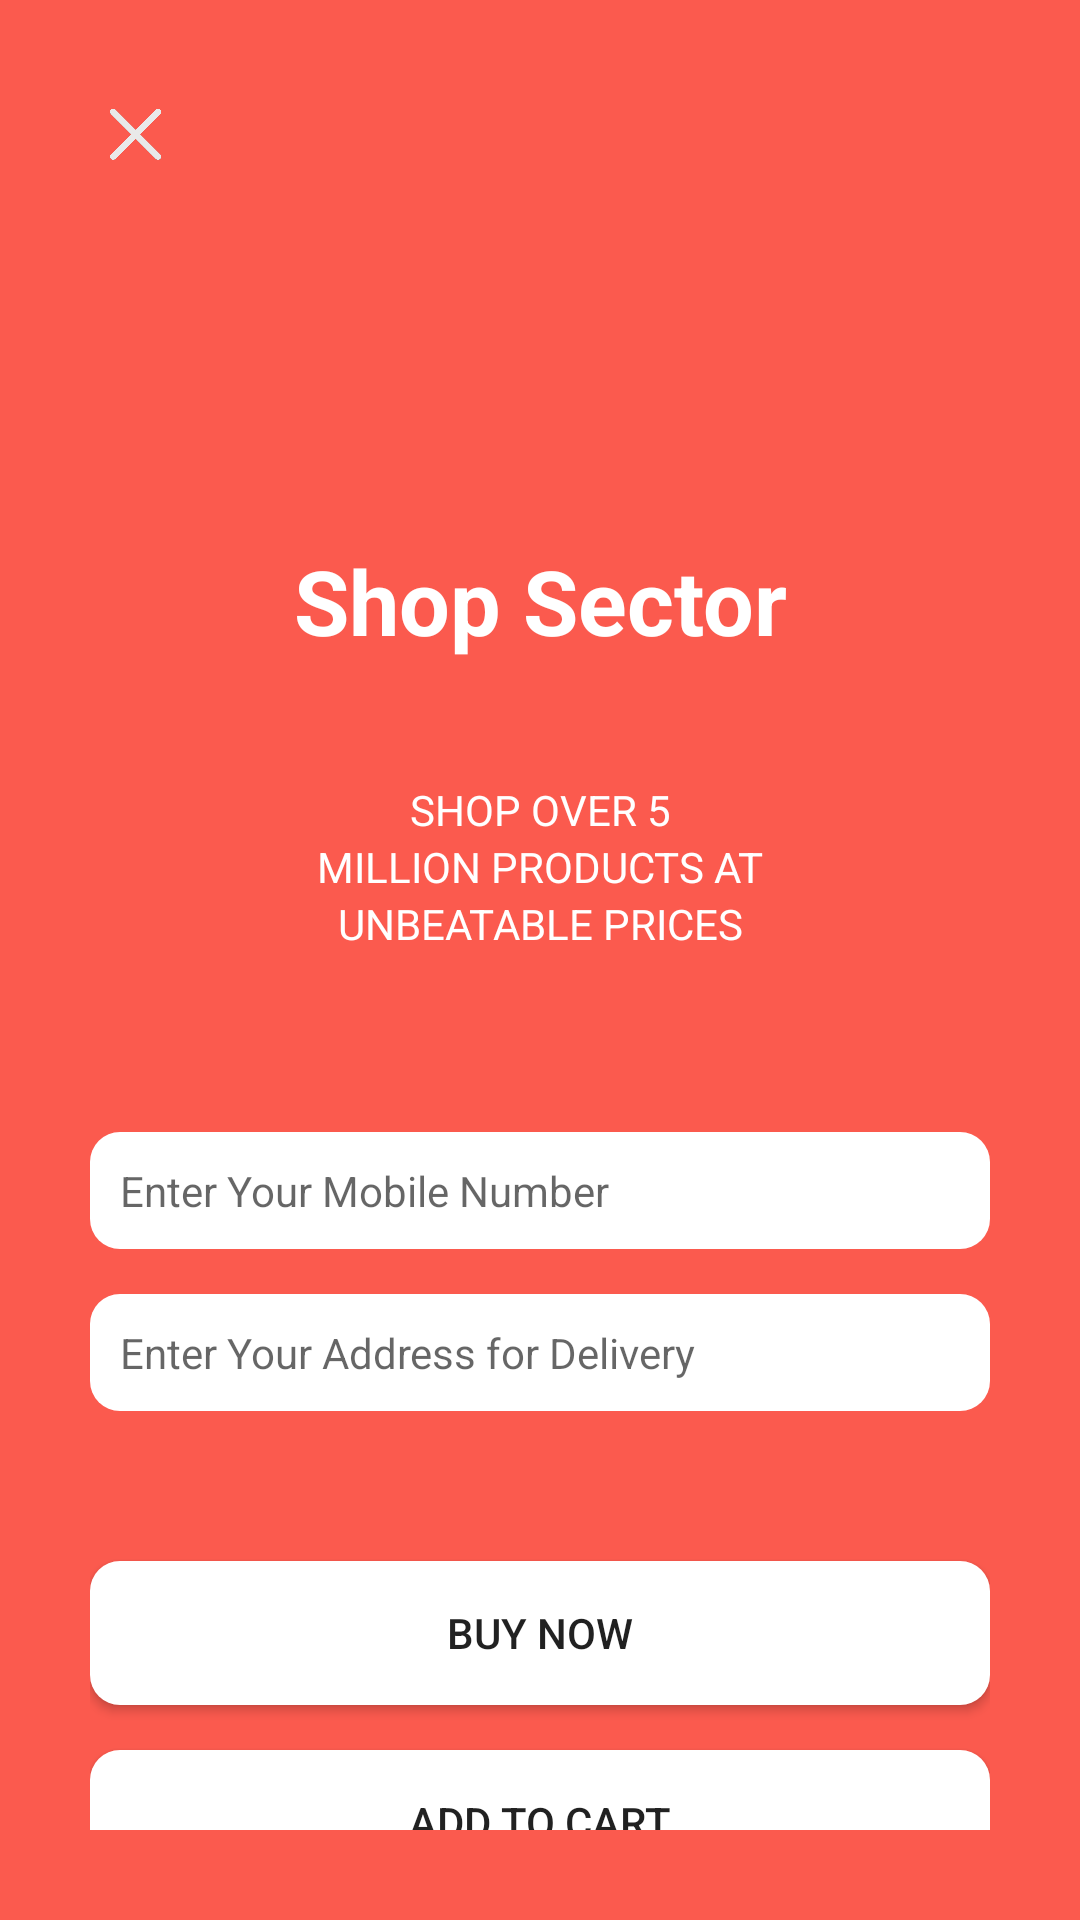

Where to tap for icons on this 1080 x 1920 app screen, as [x,y]:
cross: [135,134]
